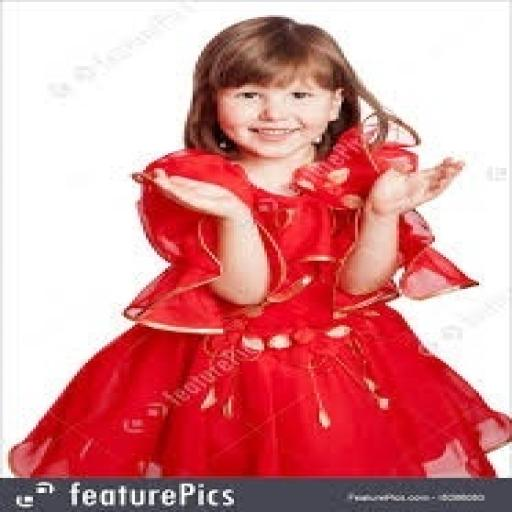clapping: (6, 13, 509, 478)
